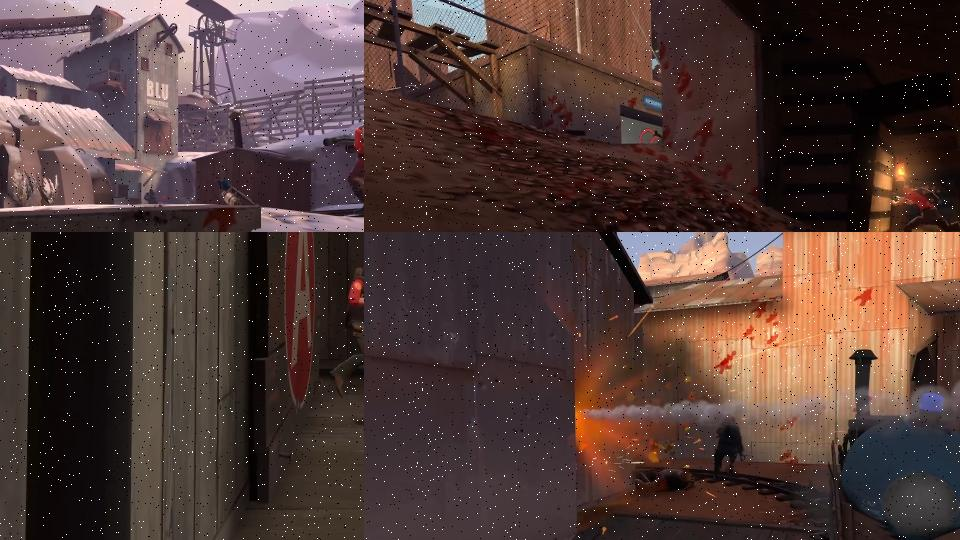Enemy: (328, 263, 364, 400), (322, 111, 364, 218), (888, 178, 960, 232), (713, 415, 746, 475), (635, 465, 697, 491)
